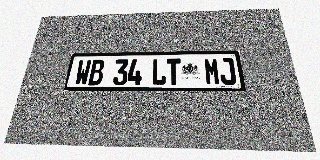3: (112, 59, 129, 85)
4: (127, 59, 142, 85)
B: (88, 60, 105, 85)
J: (218, 58, 237, 85)
L: (151, 59, 166, 85)
M: (204, 58, 221, 85)
T: (166, 59, 181, 85)
W: (74, 60, 92, 85)
